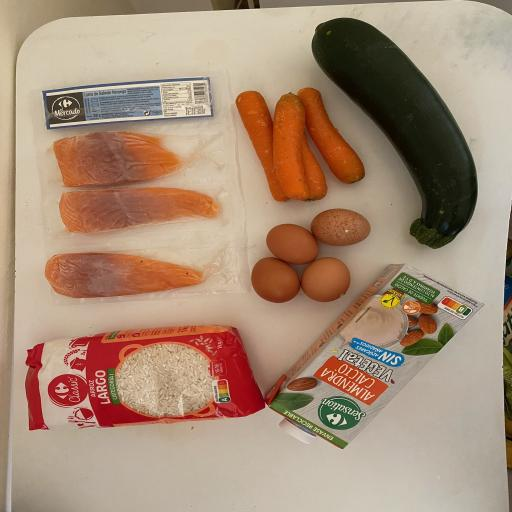carrot: (234, 88, 298, 205), (296, 83, 368, 186), (270, 89, 316, 204), (292, 138, 332, 204)
courgette: (310, 12, 485, 252)
egg: (249, 253, 303, 306), (310, 207, 374, 248), (300, 255, 353, 304), (264, 222, 323, 266)
milk_almendra: (262, 260, 486, 454)
rice: (22, 318, 269, 438)
salmon: (42, 248, 214, 300), (51, 128, 189, 190), (57, 183, 222, 234)
